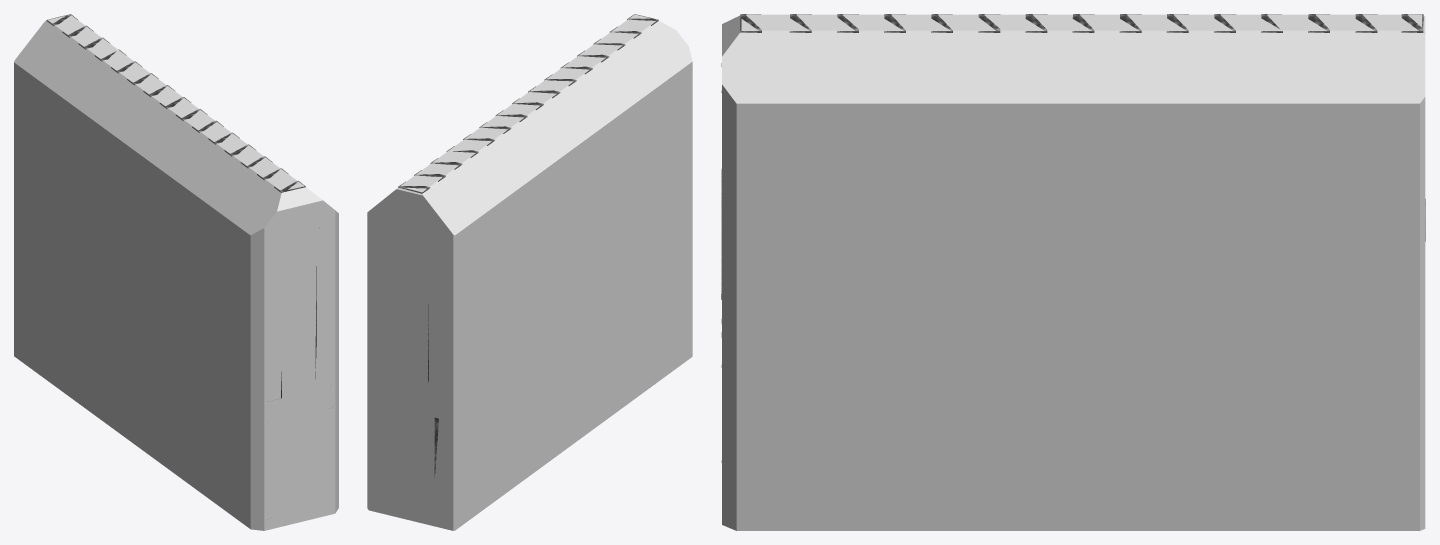
File: SM_wall_01.fbx
3 renders of one model, left to right at view 1: azimuth 30°, elevation 25°; view 2: azimuth 150°, elevation 25°; view 3: azimuth 270°, elevation 25°, orthographic. The views are drawn at different scales.
Parts seen in each view (by area): view 1: SM_wall_01_ConvexHulls, SM_wall_01_LOD0; view 2: SM_wall_01_ConvexHulls, SM_wall_01_LOD0; view 3: SM_wall_01_ConvexHulls, SM_wall_01_LOD0.
Part boxes in pixels (left/top/right/bottom): SM_wall_01_ConvexHulls: left=14, top=15, right=338, bottom=530; SM_wall_01_LOD0: left=46, top=14, right=316, bottom=519; SM_wall_01_ConvexHulls: left=367, top=14, right=692, bottom=530; SM_wall_01_LOD0: left=398, top=14, right=658, bottom=478; SM_wall_01_ConvexHulls: left=722, top=14, right=1425, bottom=530; SM_wall_01_LOD0: left=721, top=14, right=1425, bottom=462.
Size of the model in its own units: 316 by 1502 by 1123.
